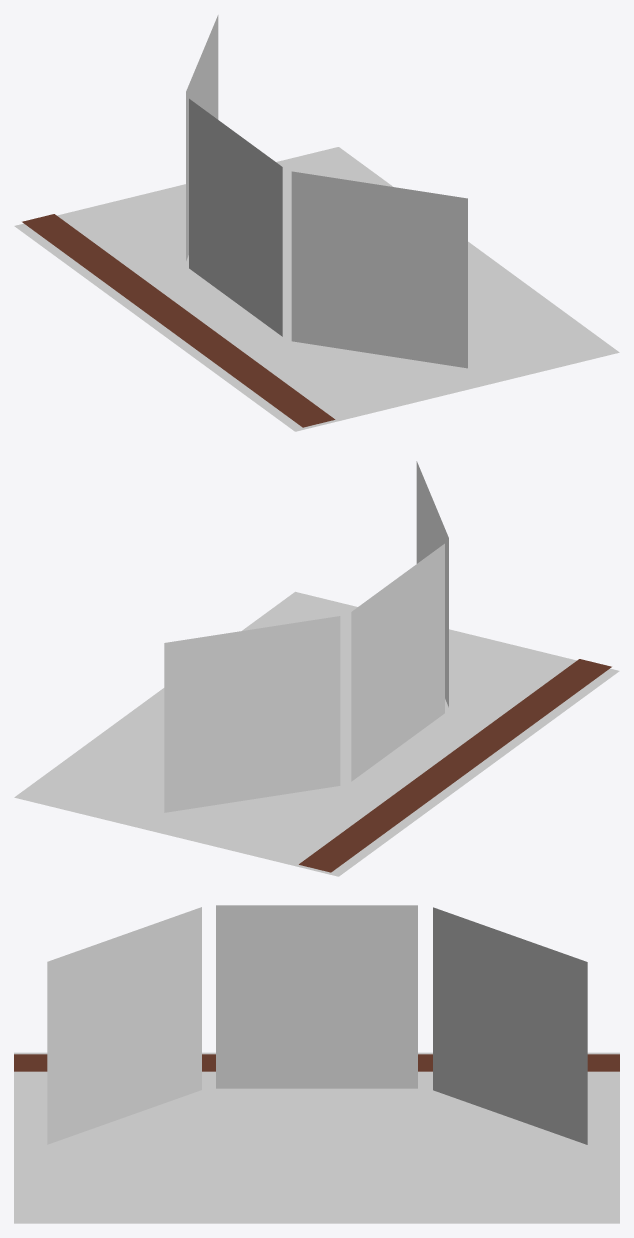
The model's file is sala_inicio.glb.
3 views of the same model, one above another, from view 1: azimuth 30°, elevation 25°; view 2: azimuth 150°, elevation 25°; view 3: azimuth 270°, elevation 25° (orthographic). The views are drawn at different scales.
Visible parts, largest first — view 1: Plano, Cubo.004, Cubo, Plano.001, Cubo.006; view 2: Plano, Cubo.006, Cubo, Plano.001, Cubo.004; view 3: Plano, Cubo, Cubo.006, Cubo.004, Plano.001.
Part boxes in pixels (<box>): Plano: <box>14,147,619,431</box>; Cubo.004: <box>291,171,467,368</box>; Cubo: <box>189,98,282,336</box>; Plano.001: <box>22,214,335,427</box>; Cubo.006: <box>186,15,218,260</box>; Plano: <box>14,591,619,876</box>; Cubo.006: <box>164,616,340,812</box>; Cubo: <box>351,543,444,781</box>; Plano.001: <box>299,659,611,872</box>; Cubo.004: <box>416,461,448,707</box>; Plano: <box>14,1052,619,1223</box>; Cubo: <box>216,905,417,1088</box>; Cubo.006: <box>433,907,587,1144</box>; Cubo.004: <box>47,907,201,1144</box>; Plano.001: <box>14,1054,619,1071</box>.
Bounding box in the file's own units: 4 × 2.08 × 6.
